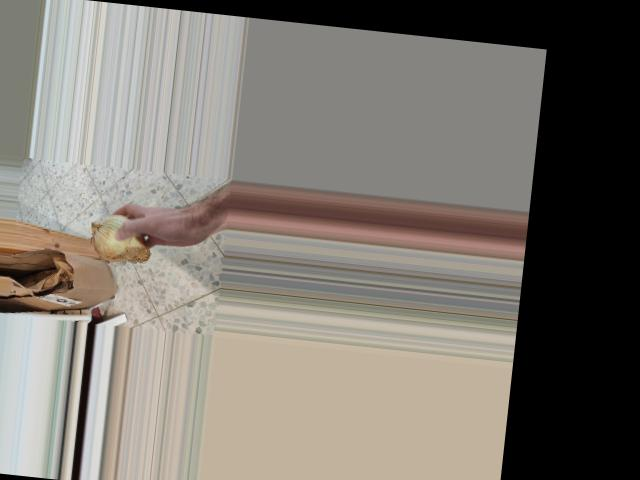onion: (84, 209, 156, 269)
